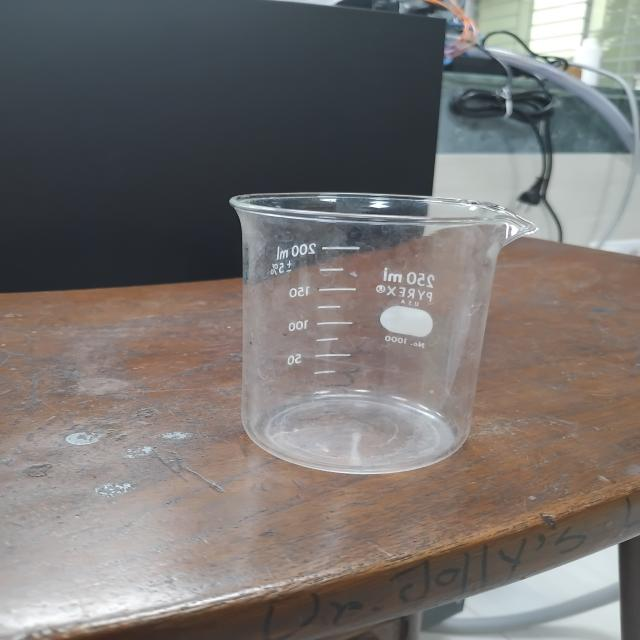Beaker: (190, 157, 555, 501)
